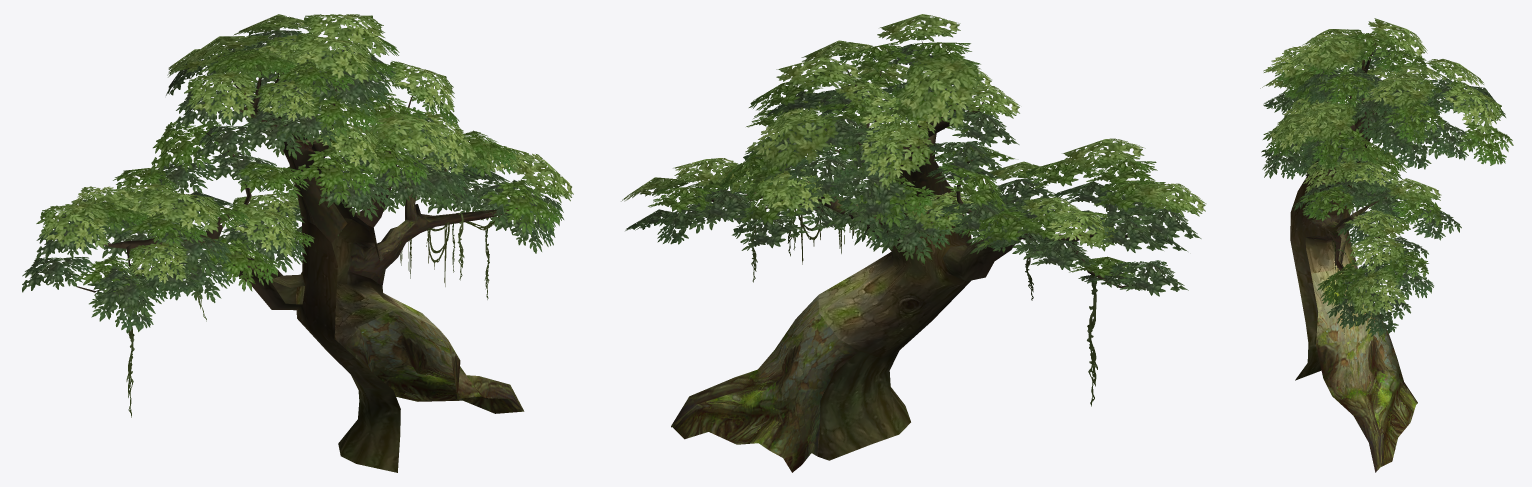
File: S_Tree_Green129_H3.FBX
The picture shows the model from 3 angles, left to right: view 1: azimuth 30°, elevation 25°; view 2: azimuth 150°, elevation 25°; view 3: azimuth 270°, elevation 25°; orthographic projection. The views are drawn at different scales.
Visible parts, largest first — view 1: S_Tree_Green129_H3_3, S_Tree_Green129_H3_1, S_Tree_Green129_H3_2; view 2: S_Tree_Green129_H3_3, S_Tree_Green129_H3_1, S_Tree_Green129_H3_2; view 3: S_Tree_Green129_H3_3, S_Tree_Green129_H3_2, S_Tree_Green129_H3_1.
Boxes of the visible parts, box(x1,y1,x2,y2) form: S_Tree_Green129_H3_3: box(22, 14, 573, 417); S_Tree_Green129_H3_1: box(69, 80, 438, 472); S_Tree_Green129_H3_2: box(218, 52, 535, 413); S_Tree_Green129_H3_3: box(621, 14, 1206, 406); S_Tree_Green129_H3_1: box(818, 40, 1136, 460); S_Tree_Green129_H3_2: box(671, 96, 986, 472); S_Tree_Green129_H3_3: box(1260, 18, 1513, 336); S_Tree_Green129_H3_2: box(1306, 39, 1436, 472); S_Tree_Green129_H3_1: box(1290, 68, 1384, 380).
Size of the model in its own units: 2986 by 2251 by 1562.
3 materials, 3 textured.
